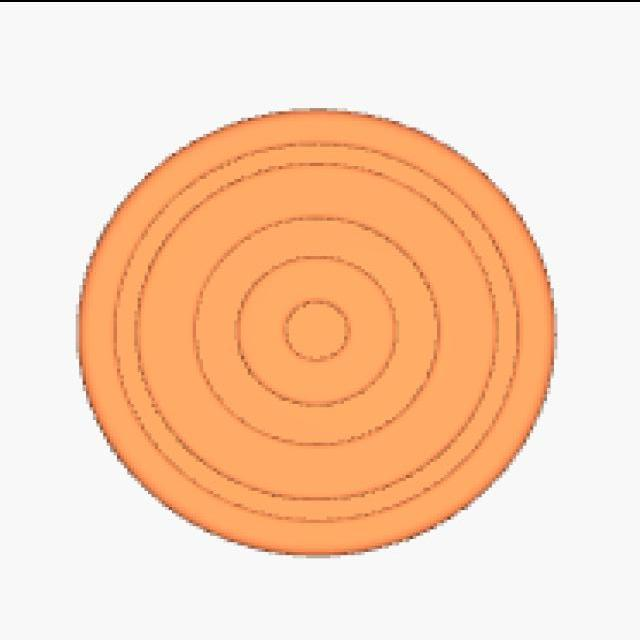chip: (75, 106, 559, 558)
